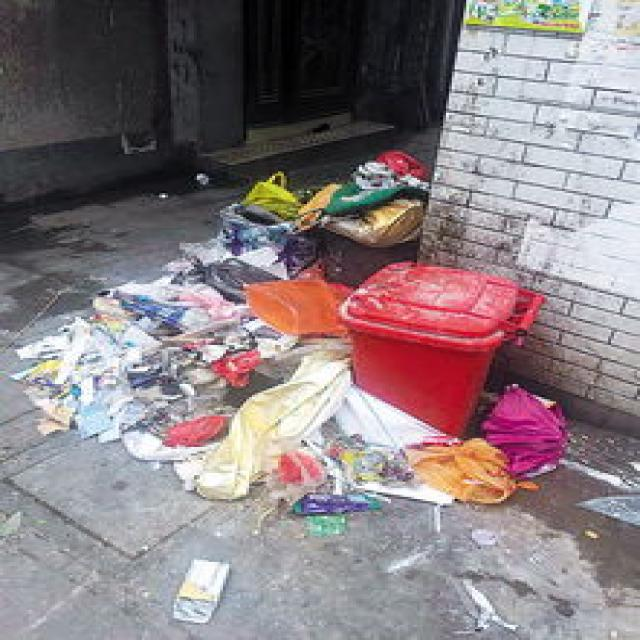garbage: (8, 145, 570, 534)
garbage_bin: (333, 258, 544, 436)
